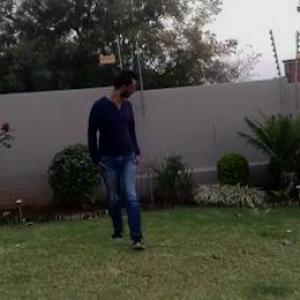follow: (89, 56, 157, 272)
